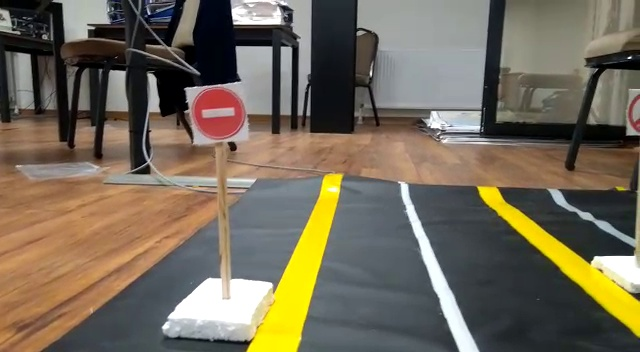girisi_olmayan_yol: (190, 82, 245, 143)
